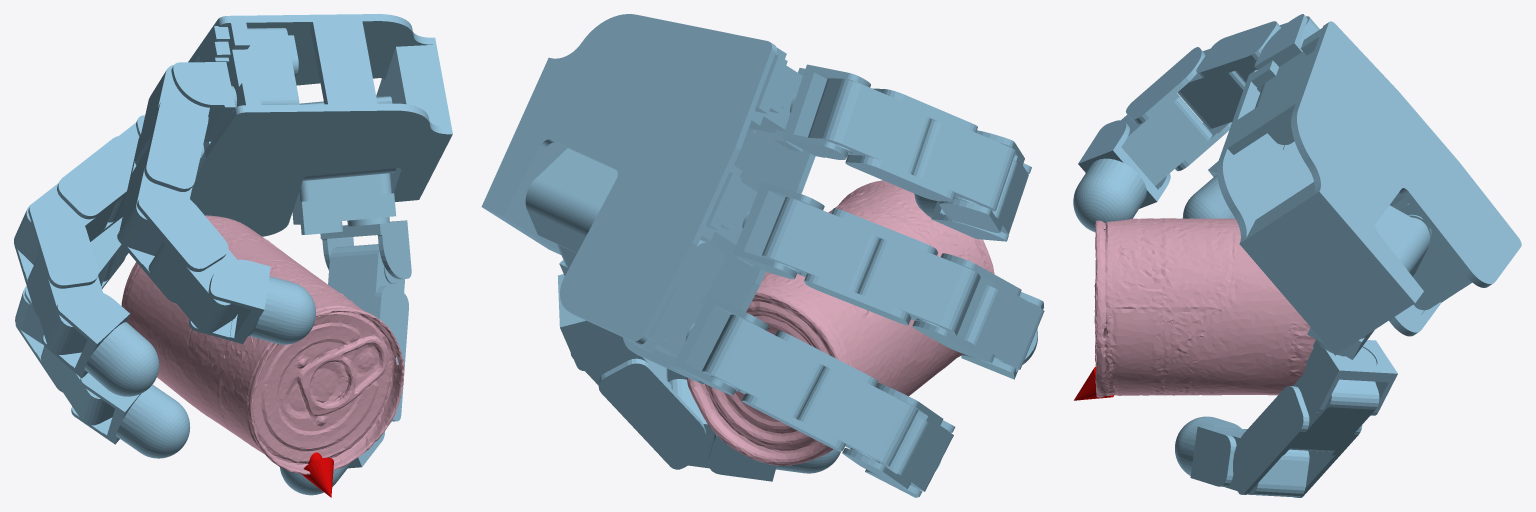
The picture shows the model from 3 angles, left to right: view 1: azimuth 30°, elevation 25°; view 2: azimuth 150°, elevation 25°; view 3: azimuth 270°, elevation 25°; orthographic projection. The views are drawn at different scales.
Visible parts, largest first — view 1: world, tomato_soup_can.stl; view 2: world, tomato_soup_can.stl; view 3: world, tomato_soup_can.stl.
Part boxes in pixels (x1,y1,x2,y2): world: (14,14,452,497); tomato_soup_can.stl: (121,215,404,474); world: (481,14,1044,497); tomato_soup_can.stl: (686,180,994,465); world: (1073,14,1521,497); tomato_soup_can.stl: (1094,218,1315,397).
Size of the model in its own units: 0.1859 by 0.183 by 0.1677.
